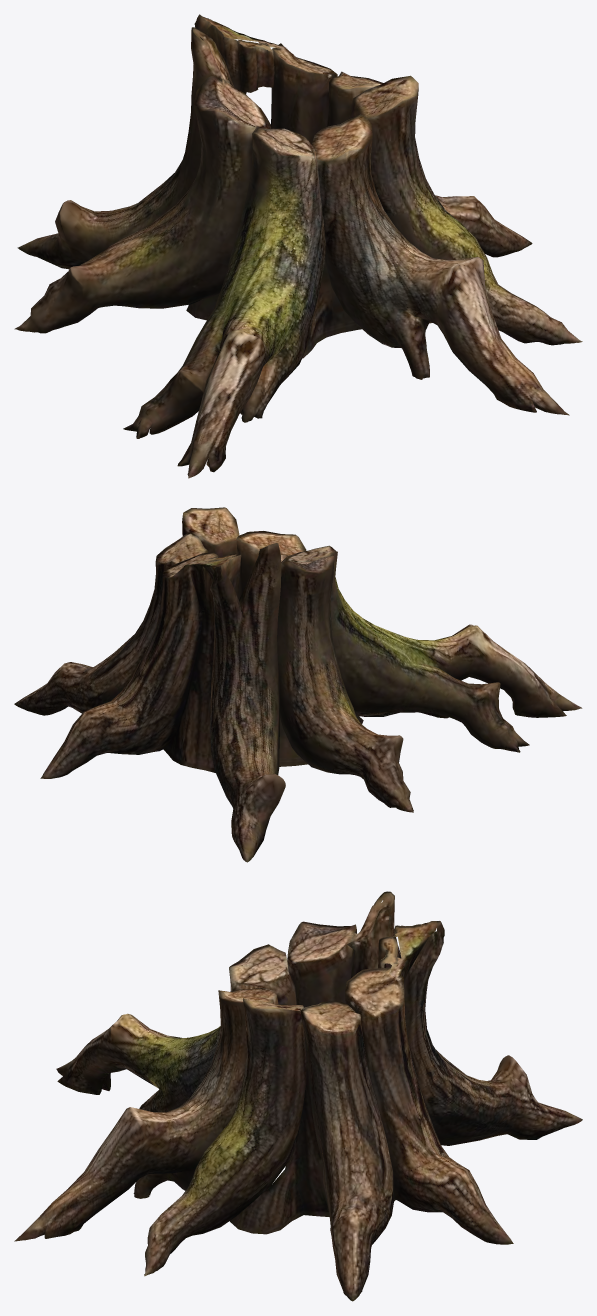
The model's file is act1-a03-6-root-stump.glb.
3 views of the same model, one above another, from view 1: azimuth 30°, elevation 25°; view 2: azimuth 150°, elevation 25°; view 3: azimuth 270°, elevation 25° (orthographic). The views are drawn at different scales.
Parts seen in each view (by area): view 1: act1-a03-6-root-stump; view 2: act1-a03-6-root-stump; view 3: act1-a03-6-root-stump.
Part boxes in pixels (left/top/right/bottom): act1-a03-6-root-stump: left=14, top=14, right=582, bottom=478; act1-a03-6-root-stump: left=14, top=507, right=582, bottom=862; act1-a03-6-root-stump: left=14, top=891, right=582, bottom=1301.
Size of the model in its own units: 2.4 by 1.3 by 2.5.
Materials: 1 (1 with a texture image).
